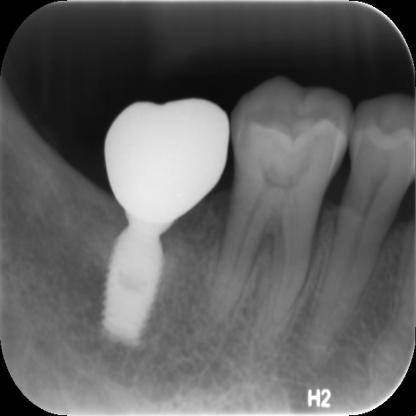Bicon: (98, 217, 168, 343)
